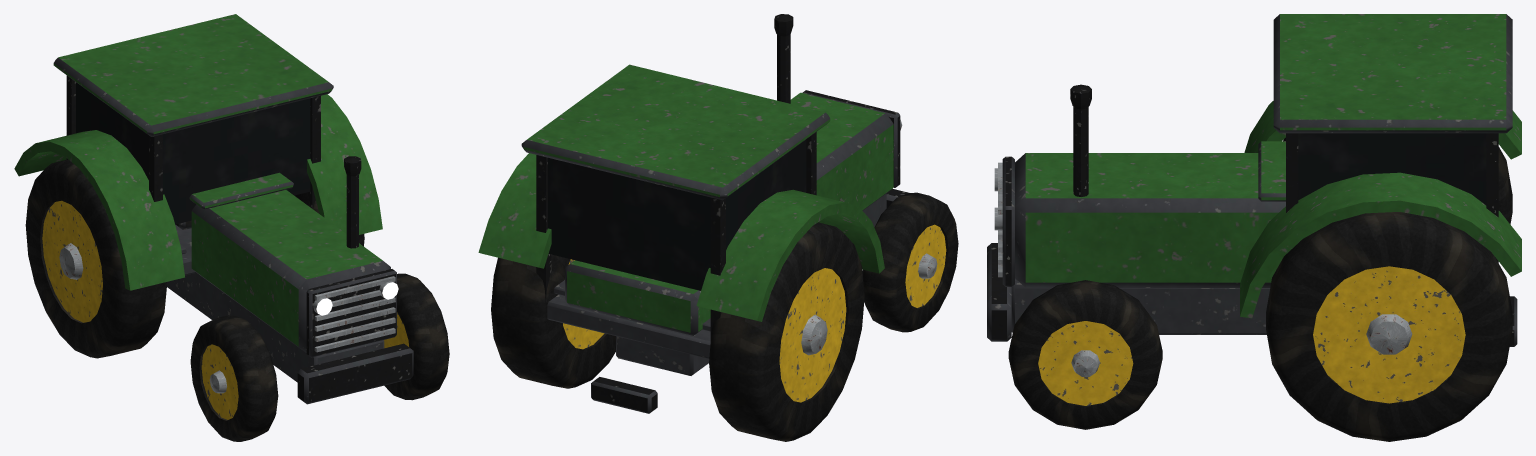
Rendered from tractor.glb.
3 views of the same model, side by side, from view 1: azimuth 30°, elevation 25°; view 2: azimuth 150°, elevation 25°; view 3: azimuth 270°, elevation 25° (orthographic). The views are drawn at different scales.
Parts seen in each view (by area): view 1: tractor; view 2: tractor; view 3: tractor.
Boxes of the visible parts, left/top/right/bottom form: tractor: left=14, top=14, right=449, bottom=441; tractor: left=478, top=14, right=958, bottom=441; tractor: left=987, top=14, right=1521, bottom=441.
Bounding box in the file's own units: 2.37 × 2.2 × 3.47.
9 materials, 8 textured.
